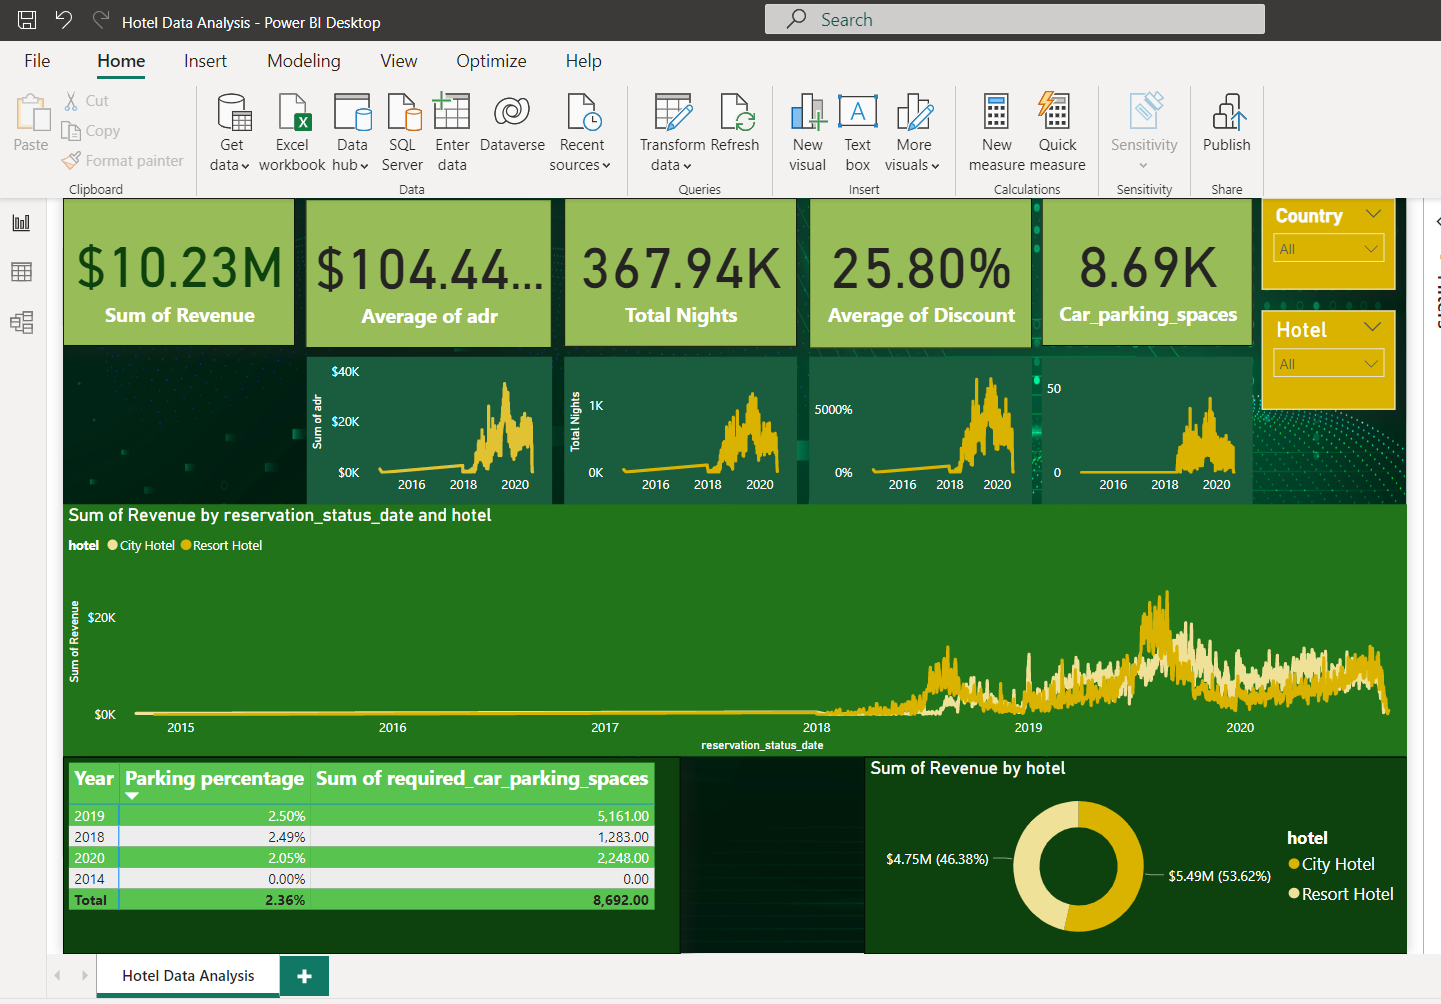

The page's visual inventory and layout, read from the dashboard file:
{"tool":"powerbi","page":{"name":"Hotel Data Analysis","canvas":[1280,720],"ordinal":0},"visuals":[{"type":"card","fields":{"Values":["Sum(Query1.Revenue)"]},"box":[0,0,220.7,141.1],"z":0},{"type":"card","fields":{"Values":["Avg(Query1.adr)"]},"box":[230.9,1.2,234.4,141.6],"z":1000},{"type":"card","fields":{"Values":["Query1.Total Nights"]},"box":[477.2,0,221.4,141.6],"z":2000},{"type":"card","fields":{"Values":["Avg(Query1.Discount)"]},"box":[710.5,0,211.8,142.8],"z":3000},{"type":"card","fields":{"Values":["Sum(Query1.required_car_parking_spaces)"]},"box":[931.8,0,201.1,140.4],"z":4000},{"type":"slicer","fields":{"Values":["Query1.country"]},"box":[1141.3,0,127.3,86.9],"z":5000},{"type":"slicer","fields":{"Values":["Query1.hotel"]},"box":[1141.3,107.1,127.3,94],"z":6000},{"type":"lineChart","fields":{"Category":["Query1.reservation_status_date","Query1.hotel"],"Y":["Sum(Query1.adr)"]},"box":[232.1,151.1,233.3,140.4],"z":7000},{"type":"lineChart","fields":{"Category":["Query1.reservation_status_date","Query1.hotel"],"Y":["Query1.Total Nights"]},"box":[477.2,151.1,221.4,140.4],"z":8000},{"type":"lineChart","fields":{"Category":["Query1.reservation_status_date","Query1.hotel"],"Y":["Sum(Query1.Discount)"]},"box":[710.5,151.1,211.8,140.4],"z":9000},{"type":"lineChart","fields":{"Category":["Query1.reservation_status_date","Query1.hotel"],"Y":["Sum(Query1.required_car_parking_spaces)"]},"box":[931.8,151.1,201.1,140.4],"z":10000},{"type":"lineChart","fields":{"Category":["Query1.reservation_status_date","Query1.hotel"],"Y":["Sum(Query1.Revenue)"],"Series":["Query1.hotel"]},"box":[0,291.6,1280.5,240.4],"z":11000},{"type":"pivotTable","fields":{"Rows":["Query1.reservation_status_date.Variation.Date Hierarchy.Year"],"Values":["Query1.Parking percentage","Sum(Query1.required_car_parking_spaces)"]},"box":[0,532,587.9,188],"z":12000},{"type":"donutChart","fields":{"Category":["Query1.hotel"],"Y":["Sum(Query1.Revenue)"]},"box":[762.8,532,517.7,188],"z":13000}]}

Visuals, with their boxes on the page's 1280x720 design canvas (x1, y1, x2, y2). These are canvas units, not pixel positions in the 1441x1004 screenshot, which may show the page scaled, cropped or inside an application window:
card - Sum(Query1.Revenue): (0,0,221,141)
card - Avg(Query1.adr): (231,1,465,143)
card - Query1.Total Nights: (477,0,699,142)
card - Avg(Query1.Discount): (710,0,922,143)
card - Sum(Query1.required_car_parking_spaces): (932,0,1133,140)
slicer - Query1.country: (1141,0,1269,87)
slicer - Query1.hotel: (1141,107,1269,201)
lineChart - Query1.reservation_status_date x Query1.hotel: (232,151,465,292)
lineChart - Query1.reservation_status_date x Query1.hotel: (477,151,699,292)
lineChart - Query1.reservation_status_date x Query1.hotel: (710,151,922,292)
lineChart - Query1.reservation_status_date x Query1.hotel: (932,151,1133,292)
lineChart - Query1.reservation_status_date x Query1.hotel: (0,292,1280,532)
pivotTable - Query1.reservation_status_date.Variation.Date Hierarchy.Year x Query1.Parking percentage: (0,532,588,720)
donutChart - Query1.hotel x Sum(Query1.Revenue): (763,532,1280,720)
